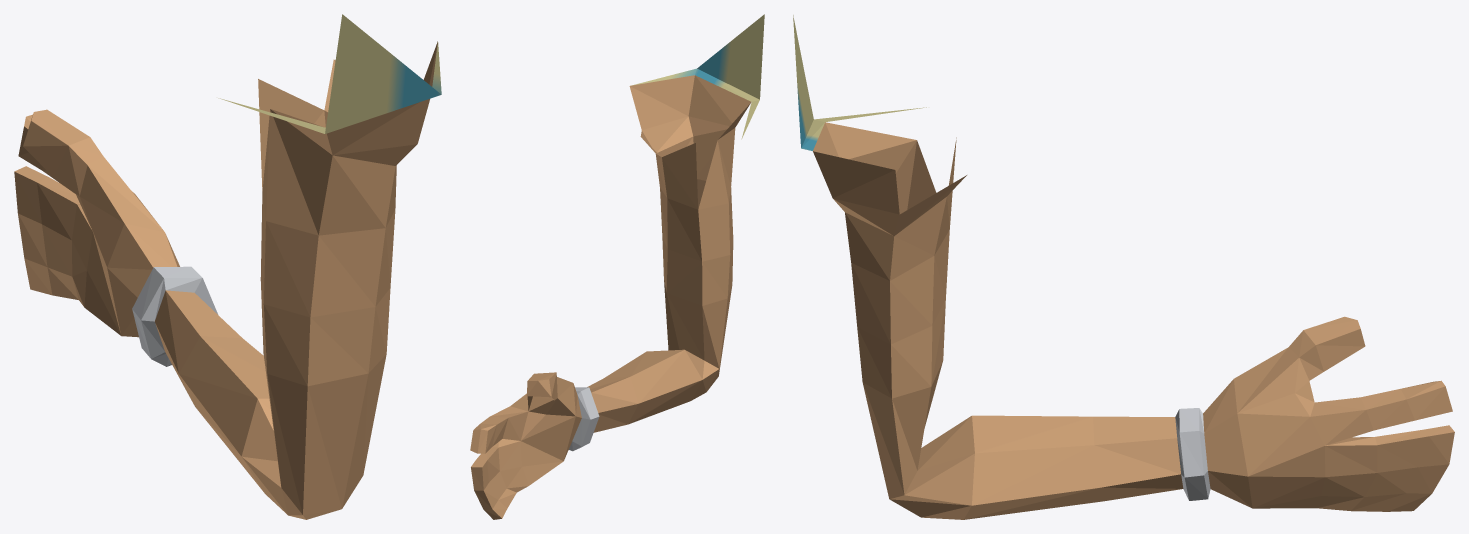
The model's file is Mother_02_02_B_ArmR_96.obj.
3 views of the same model, side by side, from view 1: azimuth 30°, elevation 25°; view 2: azimuth 150°, elevation 25°; view 3: azimuth 270°, elevation 25° (orthographic). The views are drawn at different scales.
Parts seen in each view (by area): view 1: Mother_02_02_B_ArmR_96; view 2: Mother_02_02_B_ArmR_96; view 3: Mother_02_02_B_ArmR_96.
Boxes of the visible parts, left/top/right/bottom form: Mother_02_02_B_ArmR_96: left=14, top=14, right=441, bottom=519; Mother_02_02_B_ArmR_96: left=470, top=14, right=764, bottom=519; Mother_02_02_B_ArmR_96: left=793, top=15, right=1454, bottom=519.
Size of the model in its own units: 0.1784 by 0.487 by 0.6055.
Materials: 1 (1 with a texture image).
